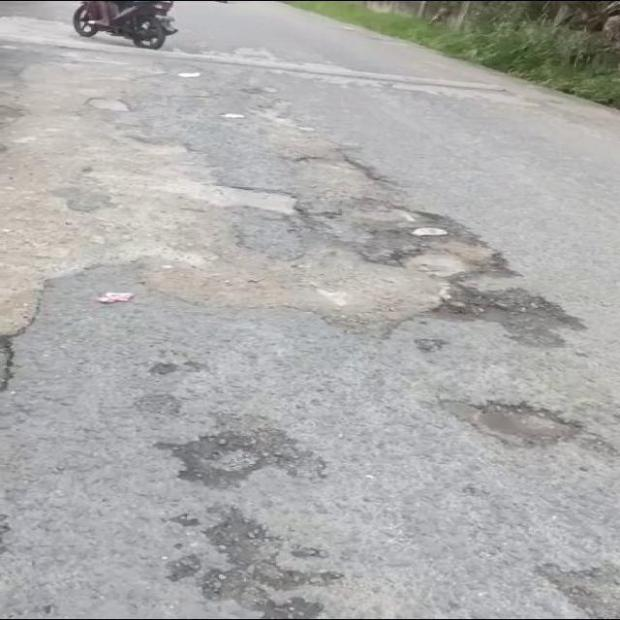lubang: (0, 136, 581, 345), (170, 509, 341, 616), (157, 418, 326, 487), (438, 400, 619, 456), (538, 563, 619, 617)
